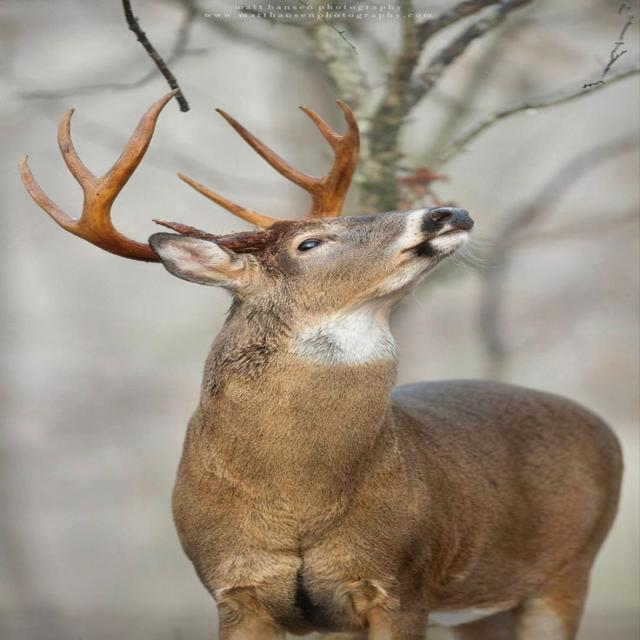L-F: (299, 99, 360, 221)
L-G1: (175, 171, 285, 229)
L-G2: (213, 106, 322, 197)
L-G3: (295, 104, 342, 155)
R-G1: (150, 217, 226, 242)
R-G2: (18, 154, 79, 236)
R-G3: (56, 105, 98, 196)
